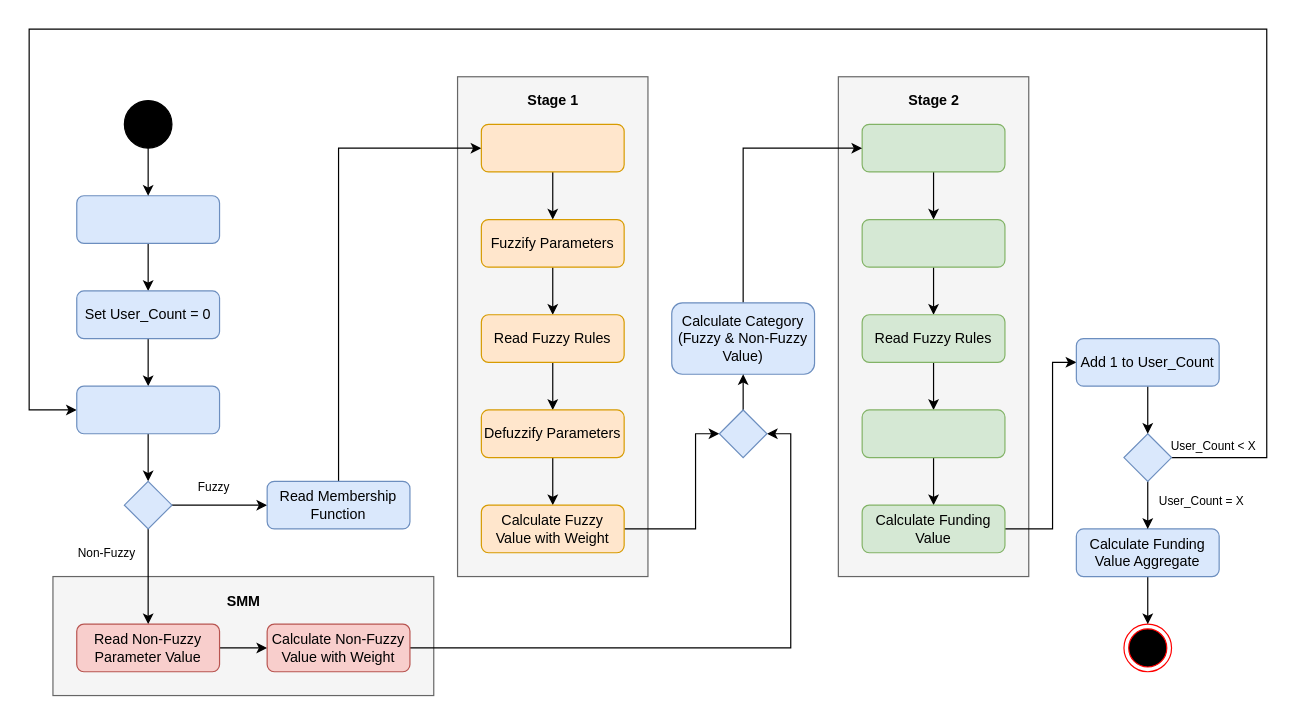
This 1297x716 diagram has some shape labels left out. The shapes that lost their labels are listed below. From the top down, each one's centre as x and y in pixels, then its label:
the point at 552,147: Read Fuzzy Parameter Value
the point at 933,147: Read All Categories
the point at 148,219: Read Data
the point at 933,242: Fuzzify Categories
the point at 148,409: Preprocessing Data
the point at 933,433: Defuzzify Categories
